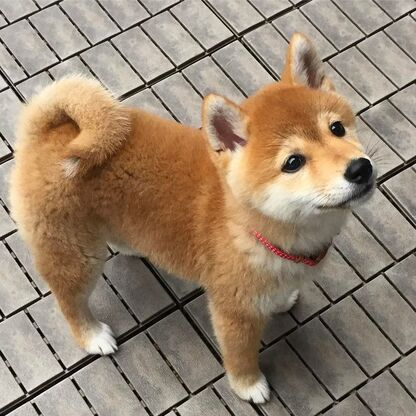shiba: (7, 27, 382, 407)
